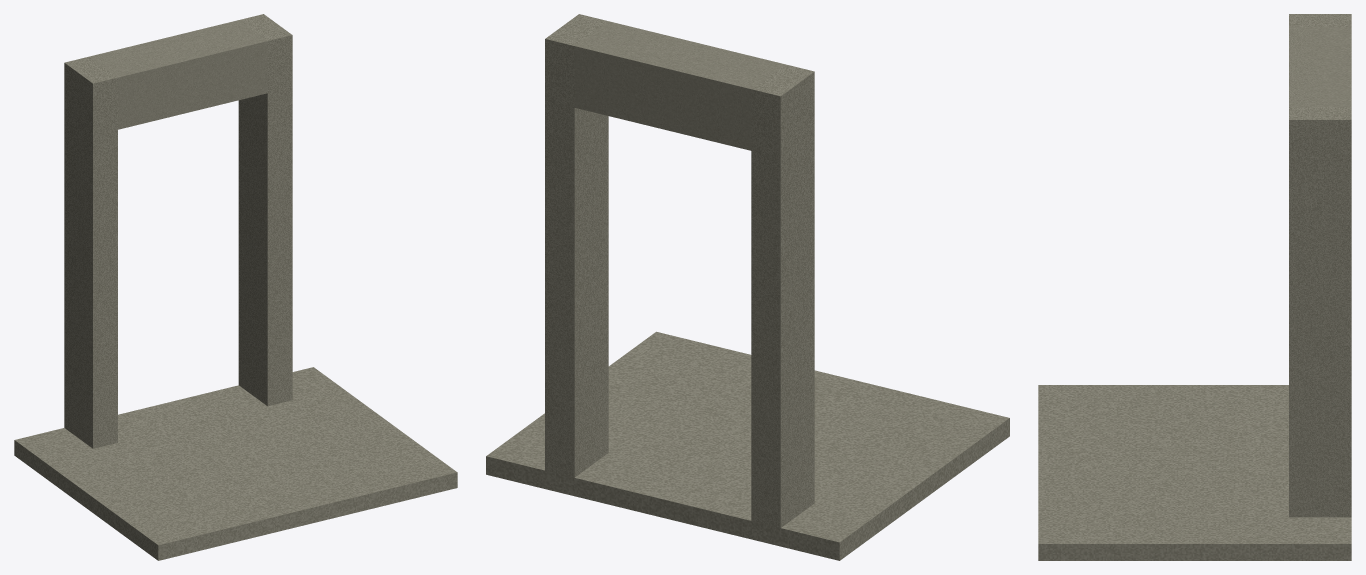
3 renders of one model, left to right at view 1: azimuth 30°, elevation 25°; view 2: azimuth 150°, elevation 25°; view 3: azimuth 270°, elevation 25°, orthographic. The views are drawn at different scales.
Parts seen in each view (by area): view 1: COL_floor, COL_door_jamb, COL_door_jamb.001, COL_door_head; view 2: COL_floor, COL_door_jamb, COL_door_jamb.001, COL_door_head; view 3: COL_floor, COL_door_jamb.001, COL_door_head, COL_door_jamb.
Part boxes in pixels (box(x1,y1,x2,y2)): COL_floor: box(14, 367, 457, 560); COL_door_jamb: box(64, 56, 117, 448); COL_door_jamb.001: box(238, 14, 292, 406); COL_door_head: box(89, 20, 267, 129); COL_floor: box(486, 331, 1009, 560); COL_door_jamb: box(751, 64, 814, 527); COL_door_jamb.001: box(545, 14, 608, 477); COL_door_head: box(574, 21, 784, 150); COL_floor: box(1038, 385, 1351, 560); COL_door_jamb.001: box(1289, 106, 1351, 517); COL_door_head: box(1289, 27, 1351, 106); COL_door_jamb: box(1289, 14, 1351, 27).
Bounding box in the file's own units: 2.4 × 2.92 × 2.
Materials: 1 (1 with a texture image).
